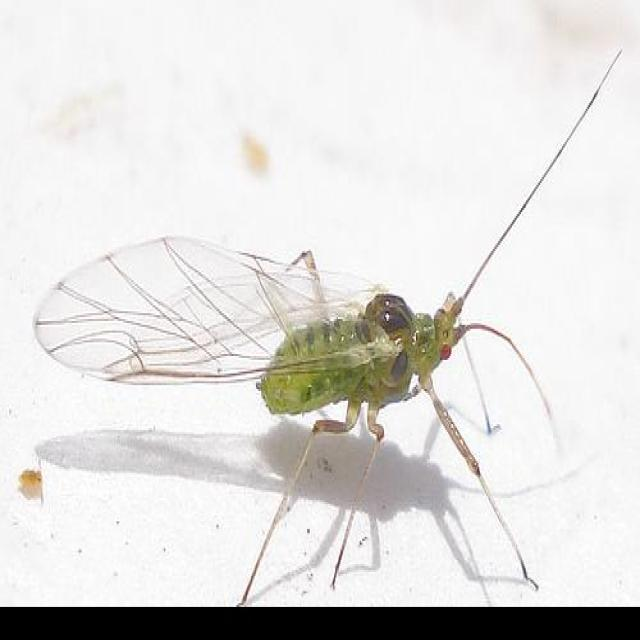Aphids: (42, 161, 583, 587)
